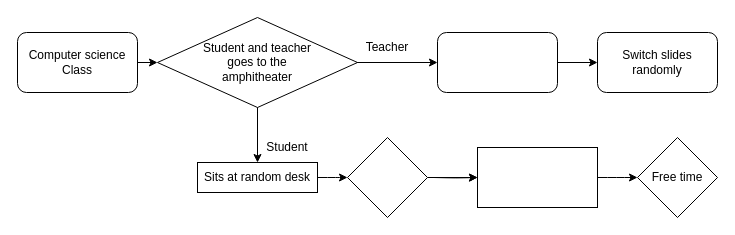
This 735x235 diagram has some shape labels left out. The centre of each missing label's shape, as x and y in pixels:
"All students leave at the same time" goes at pixel 537 177.
"Class is over" goes at pixel 387 177.
"Stand Behind his desk" goes at pixel 497 62.
